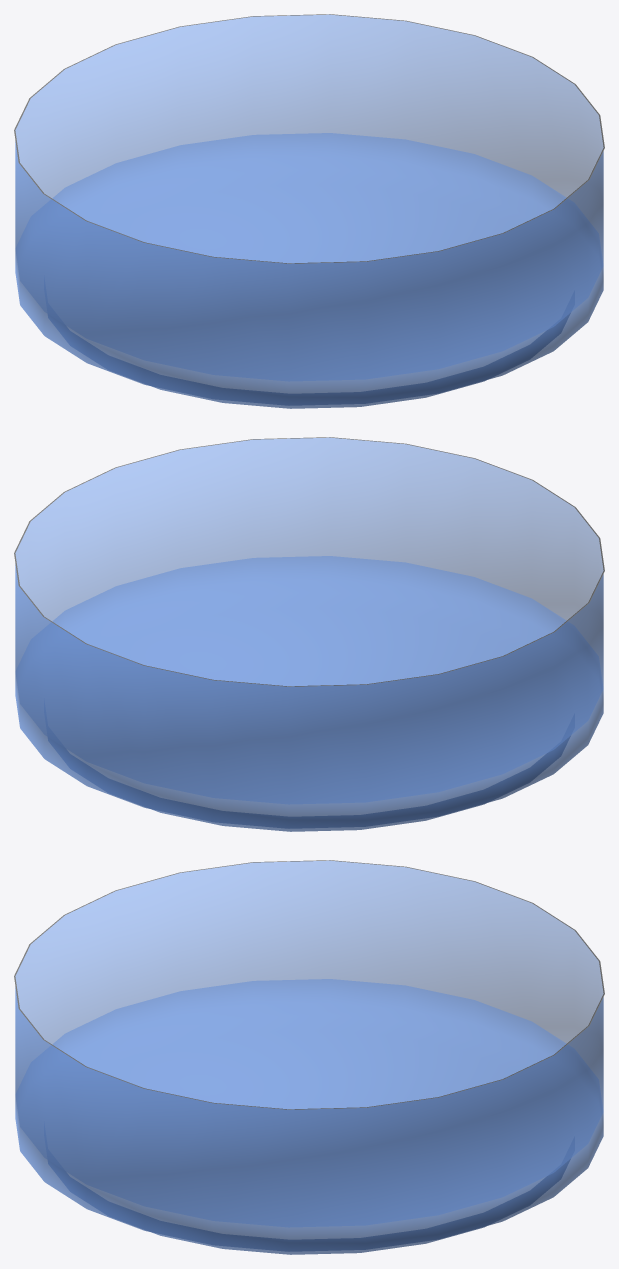
3 renders of one model, top to bottom at view 1: azimuth 30°, elevation 25°; view 2: azimuth 150°, elevation 25°; view 3: azimuth 270°, elevation 25°, orthographic.
Parts seen in each view (by area): view 1: root; view 2: root; view 3: root.
Boxes of the visible parts, left/top/right/bottom form: root: left=14, top=14, right=604, bottom=408; root: left=14, top=437, right=604, bottom=831; root: left=14, top=860, right=604, bottom=1254.
Size of the model in its own units: 2.76 by 0.8128 by 2.76.
